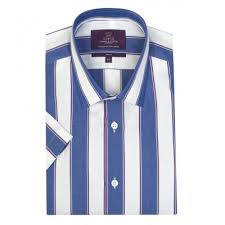striped: (46, 10, 176, 214)
